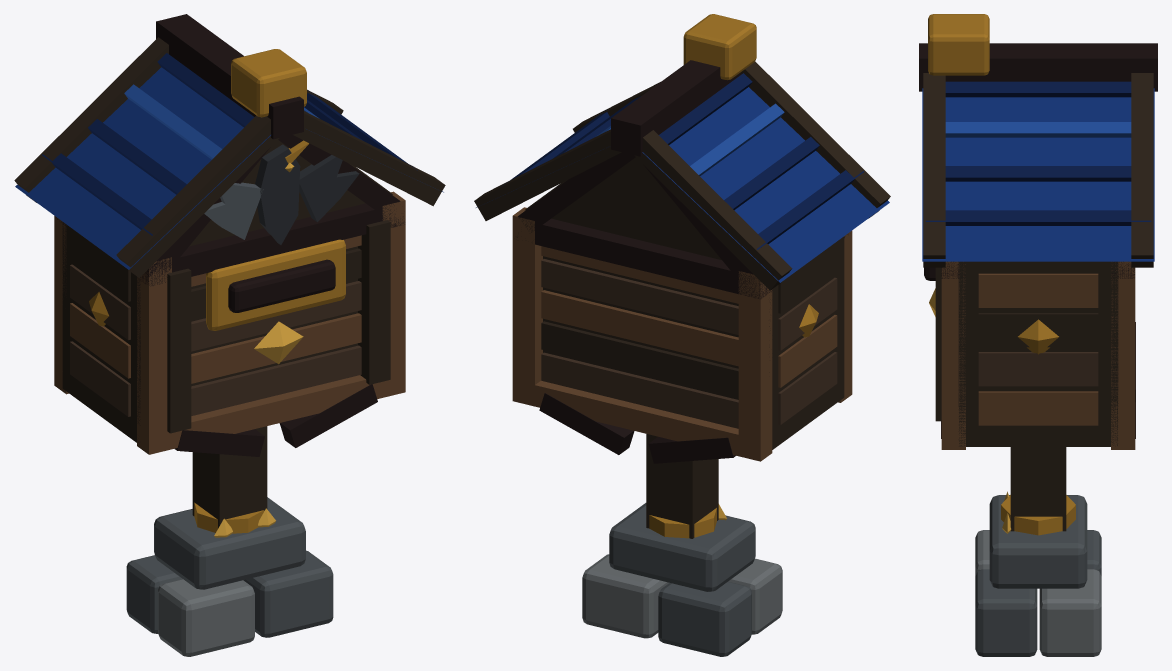
The model's file is fixture_mailbox.glb.
3 views of the same model, side by side, from view 1: azimuth 30°, elevation 25°; view 2: azimuth 150°, elevation 25°; view 3: azimuth 270°, elevation 25° (orthographic). The views are drawn at different scales.
Parts seen in each view (by area): view 1: fixture-mailbox:structure:game/mailbox_pillar/MailboxOpaque, fixture-mailbox:structure:game/mailbox_pillar/MailboxMetal; view 2: fixture-mailbox:structure:game/mailbox_pillar/MailboxOpaque, fixture-mailbox:structure:game/mailbox_pillar/MailboxMetal; view 3: fixture-mailbox:structure:game/mailbox_pillar/MailboxOpaque, fixture-mailbox:structure:game/mailbox_pillar/MailboxMetal.
Boxes of the visible parts, <box> form: fixture-mailbox:structure:game/mailbox_pillar/MailboxOpaque: <box>14,14,445,656</box>; fixture-mailbox:structure:game/mailbox_pillar/MailboxMetal: <box>89,49,345,537</box>; fixture-mailbox:structure:game/mailbox_pillar/MailboxOpaque: <box>474,60,890,656</box>; fixture-mailbox:structure:game/mailbox_pillar/MailboxMetal: <box>649,14,818,538</box>; fixture-mailbox:structure:game/mailbox_pillar/MailboxOpaque: <box>919,43,1157,656</box>; fixture-mailbox:structure:game/mailbox_pillar/MailboxMetal: <box>928,14,1075,535</box>.
Size of the model in its own units: 0.8 by 1.41 by 0.5091.
